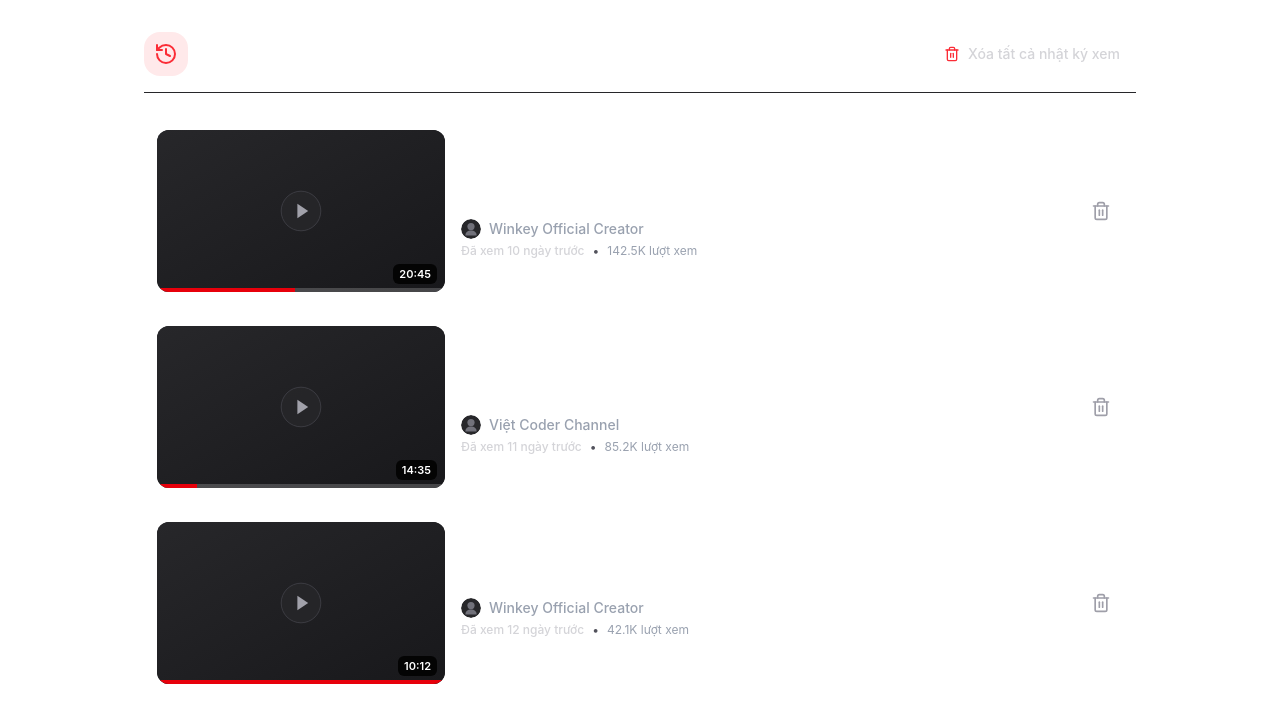
Test: HIST1: Watch History (/lich-su) Unit Tests (ADR-044) › 4. Clear All Watch History with Confirmation Modal › opens confirmation dialog, allows canceling, and performs clear on confirm
The image size is (1280, 720).
Click the button with test id "clear-all-history-btn": (1032,54) [928,36,1136,72]
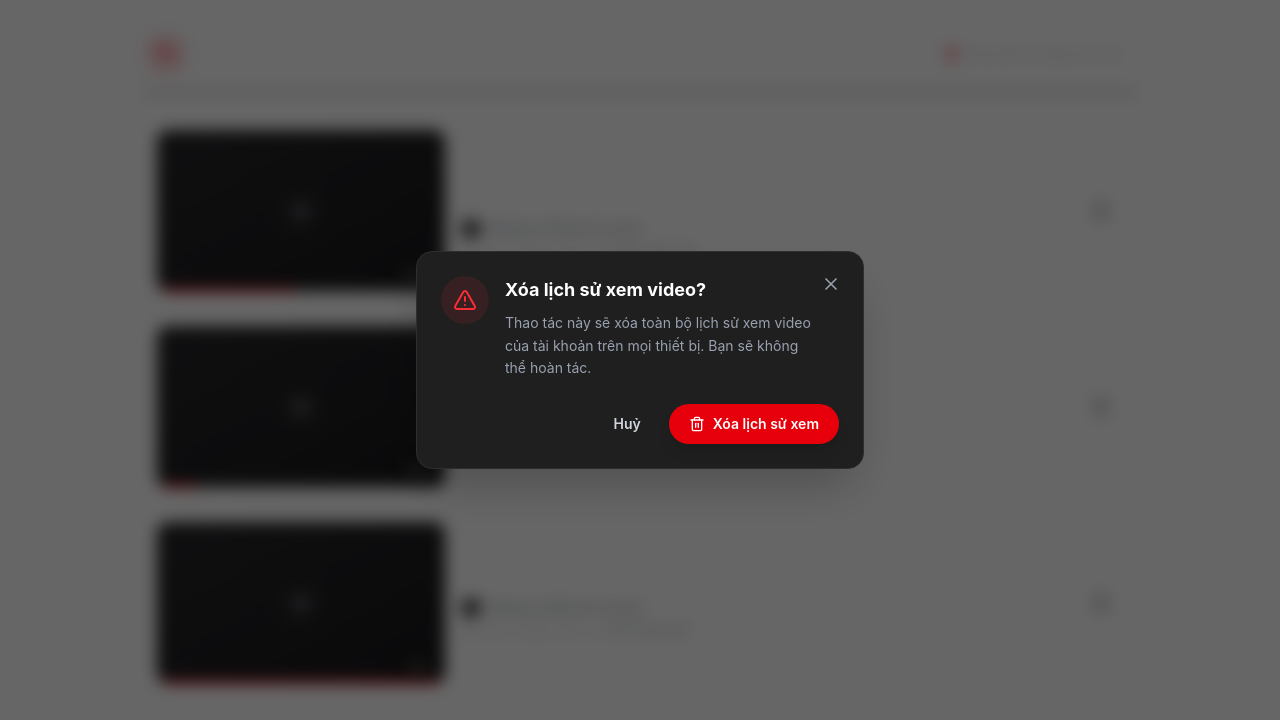
Result: the dialog with test id "clear-history-dialog" is shown
Result: the heading "Xóa lịch sử xem video?" is shown at [505,279,706,300]
Result: the text "Thao tác này sẽ xóa toàn bộ lịch sử xem video của tài khoản trên mọi thiết bị. Bạn sẽ không thể hoàn tác." is shown at [505,314,811,376]
# Click Cancel first
Click the button with test id "cancel-clear-history-btn": (627,424) [597,404,657,444]
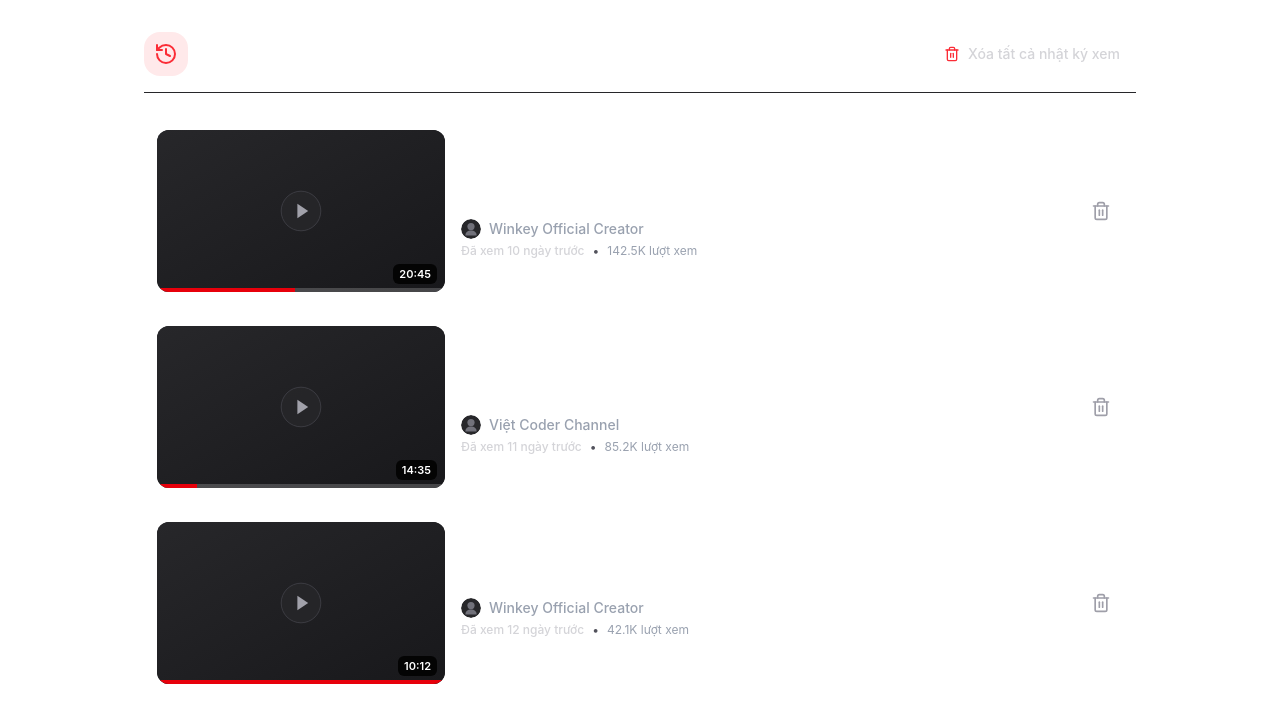
Expected: the element with test id "^history-item-" is shown, [144,117,1136,305]
Result: the dialog with test id "clear-history-dialog" is gone
# Re-open and Confirm
Click the button with test id "clear-all-history-btn": (1032,54) [928,36,1136,72]
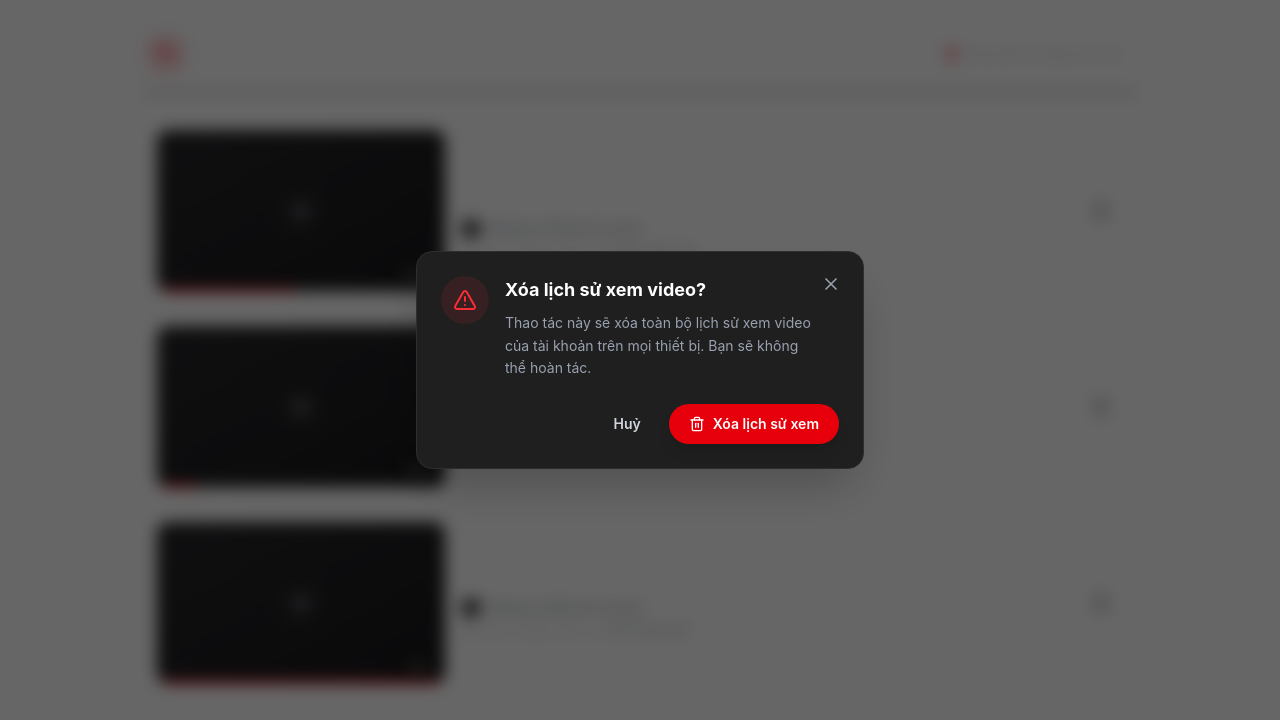
Click the button with test id "confirm-clear-history-btn": (754,424) [669,404,839,444]
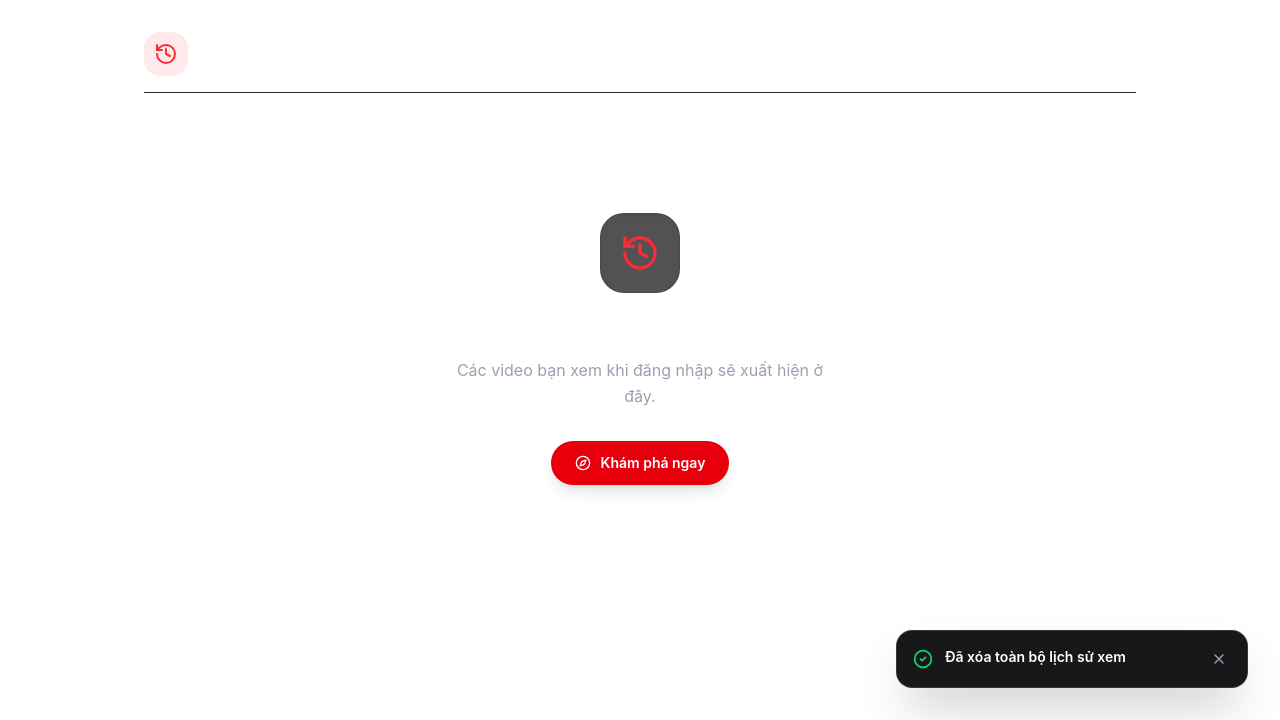
Result: the element with test id "history-empty-state" is shown at [443,213,837,485]
Result: the text "Các video bạn xem khi đăng nhập sẽ xuất hiện ở đây." is shown at [448,357,832,409]
Result: the button with test id "clear-all-history-btn" is gone
